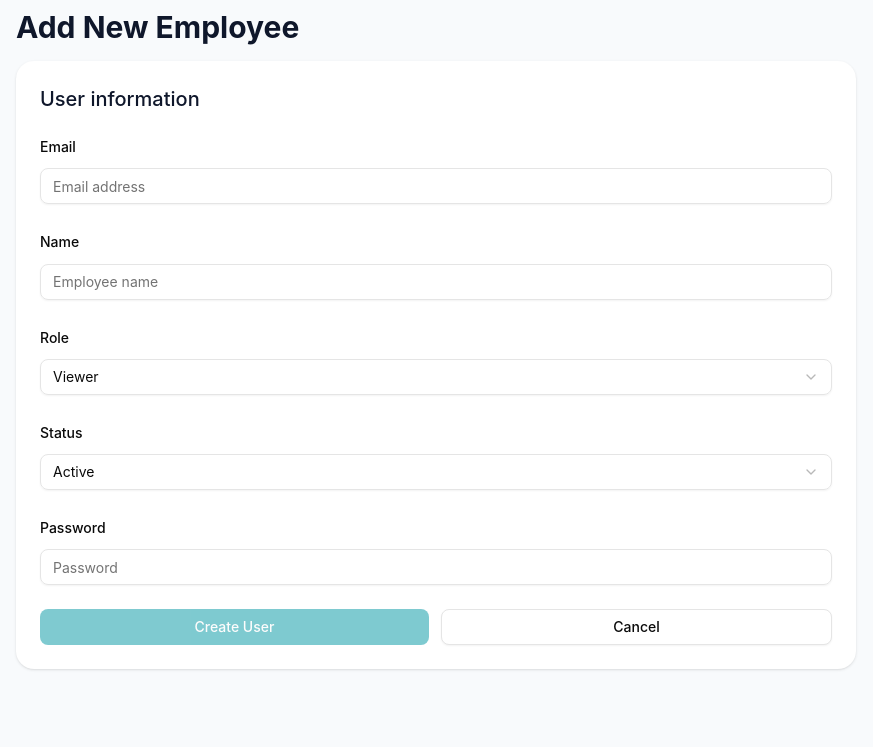
EmployeeNew › displays a server error when createUser rejects
The width and height of the screenshot is (873, 747).
Type "homer@snrub-corp.io" into the field with test id "employees.new-form.email-input" at (436, 186), box left=40, top=168, right=832, bottom=204
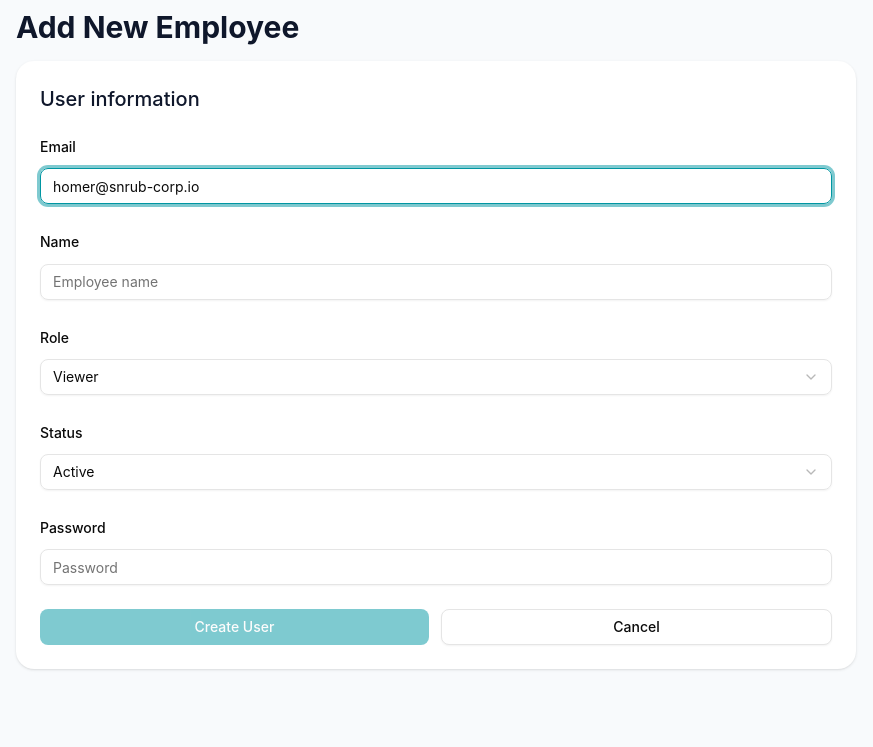
Type "Homer Simpson" into the field with test id "employees.new-form.name-input" at (436, 282), box left=40, top=264, right=832, bottom=300
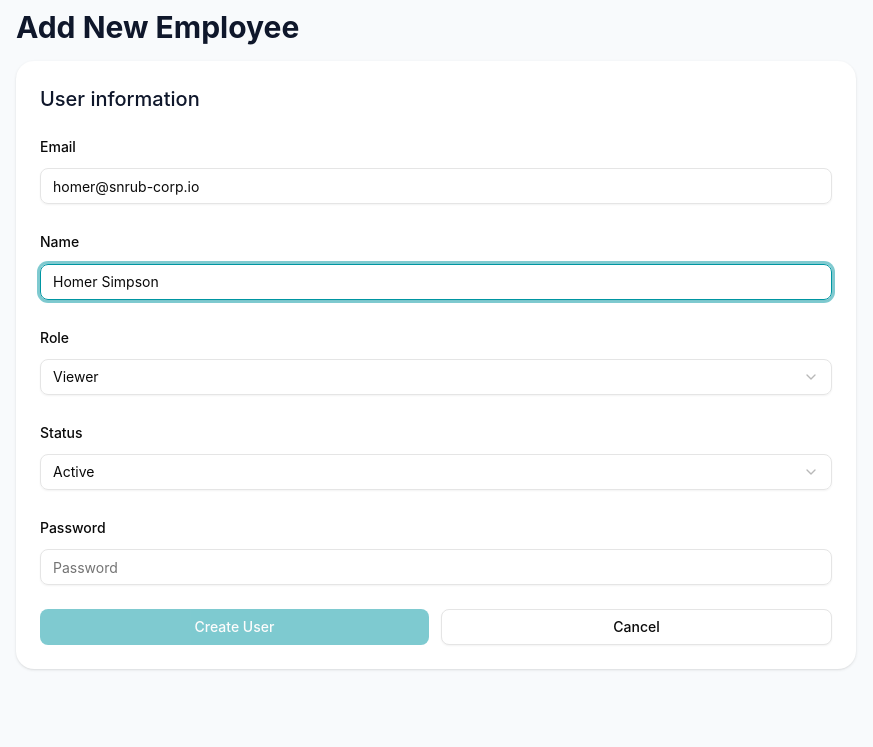
Type "Donuts1!" into the password field labelled "Password" at (436, 567), box left=40, top=549, right=832, bottom=585
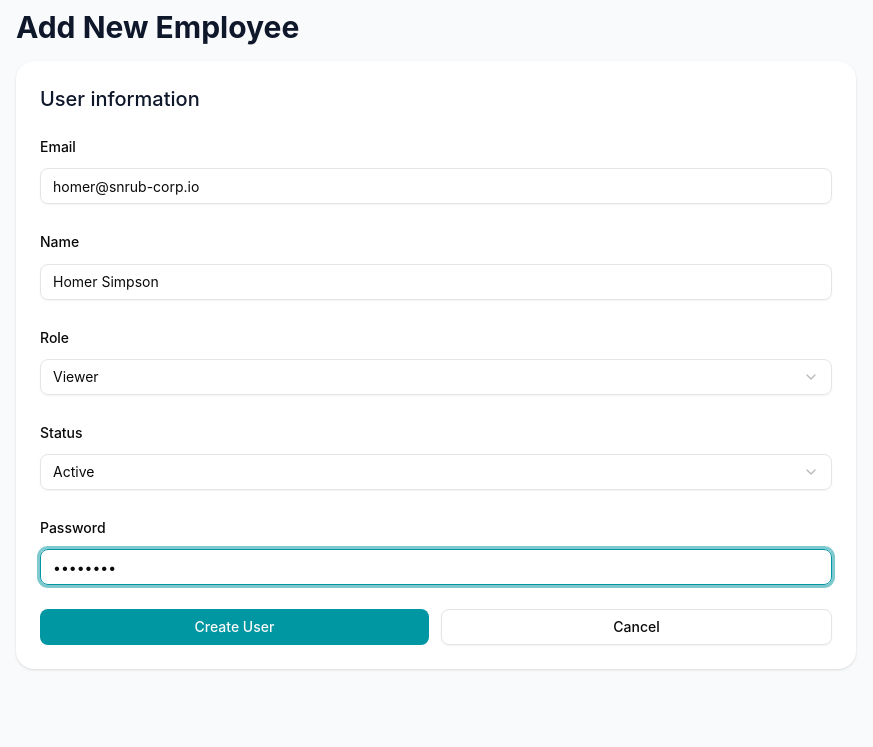
Click the button with test id "employees.new-form.create-btn" at (234, 627), box left=40, top=609, right=429, bottom=645
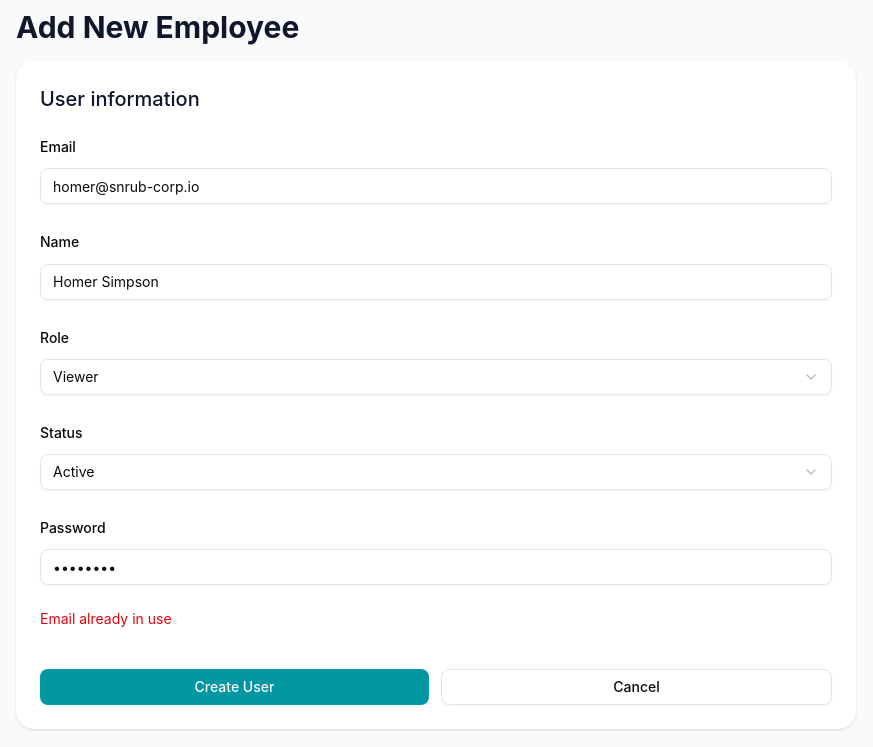
Check: the message reads "Email already in use", box left=40, top=610, right=172, bottom=627
